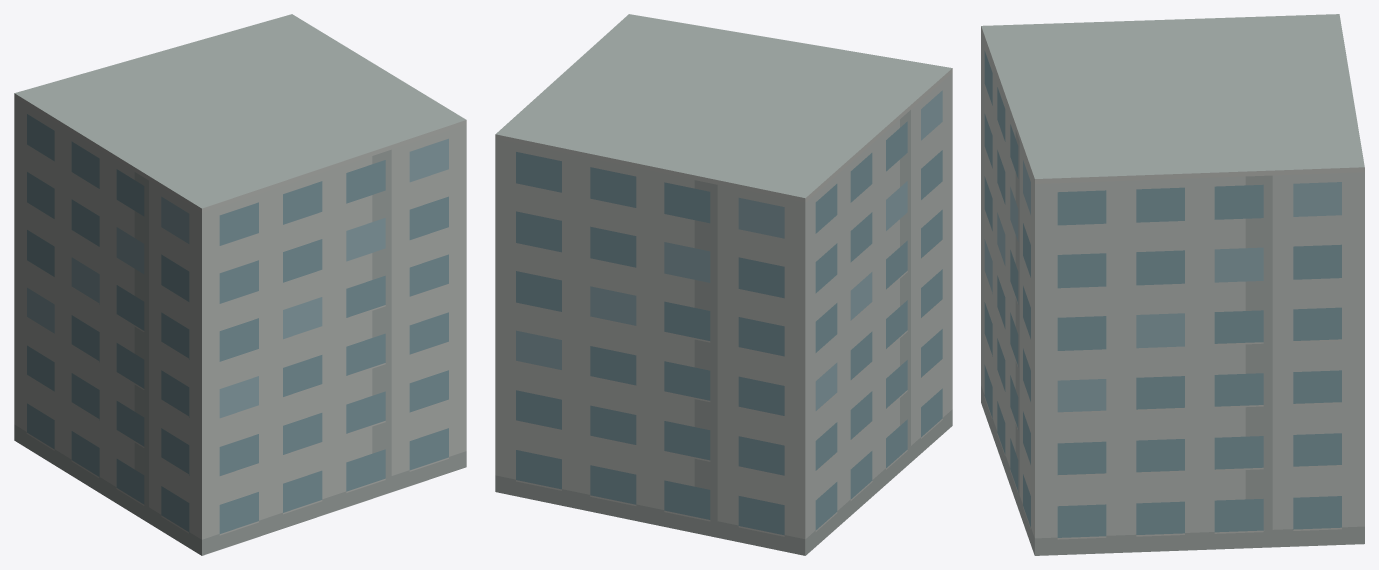
The model's file is survey-upis-32927691.glb.
The picture shows the model from 3 angles, left to right: view 1: azimuth 30°, elevation 25°; view 2: azimuth 150°, elevation 25°; view 3: azimuth 270°, elevation 25°; orthographic projection. The views are drawn at different scales.
Parts seen in each view (by area): view 1: survey-upis-32927691.tmp; view 2: survey-upis-32927691.tmp; view 3: survey-upis-32927691.tmp.
Boxes of the visible parts, x1,y1,x2,y2 form: survey-upis-32927691.tmp: (14,14,466,555); survey-upis-32927691.tmp: (495,14,952,555); survey-upis-32927691.tmp: (981,14,1364,555).
Size of the model in its own units: 17.39 by 18.5 by 17.08.
